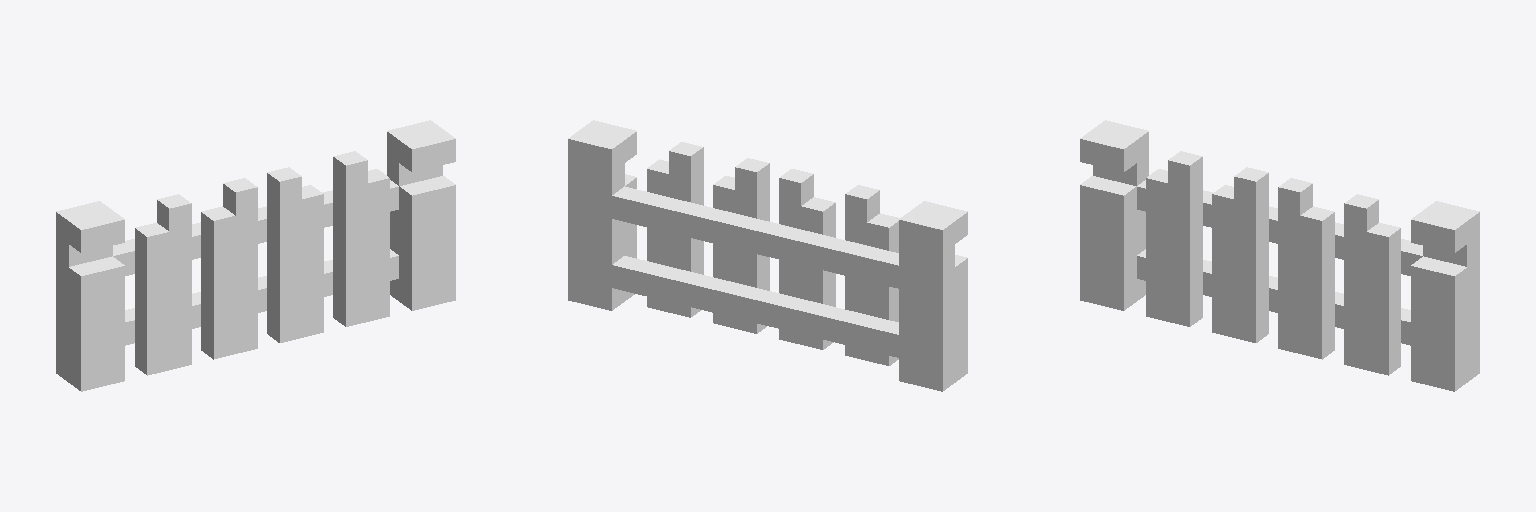
Rendered from Red-house-1-Vaya.obj.
3 views of the same model, side by side, from view 1: azimuth 30°, elevation 25°; view 2: azimuth 150°, elevation 25°; view 3: azimuth 330°, elevation 25° (orthographic).
Visible parts, largest first — view 1: Vaya; view 2: Vaya; view 3: Vaya.
Boxes of the visible parts, x1=… form: Vaya: x1=56, y1=120, x2=455, y2=391; Vaya: x1=568, y1=120, x2=967, y2=391; Vaya: x1=1080, y1=120, x2=1479, y2=391.
Size of the model in its own units: 1.7 by 0.7 by 0.2.